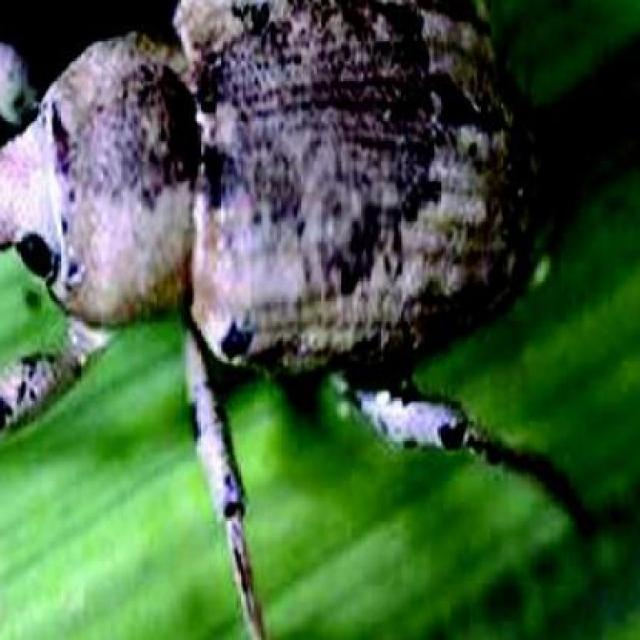rice-bug: (0, 0, 534, 445)
